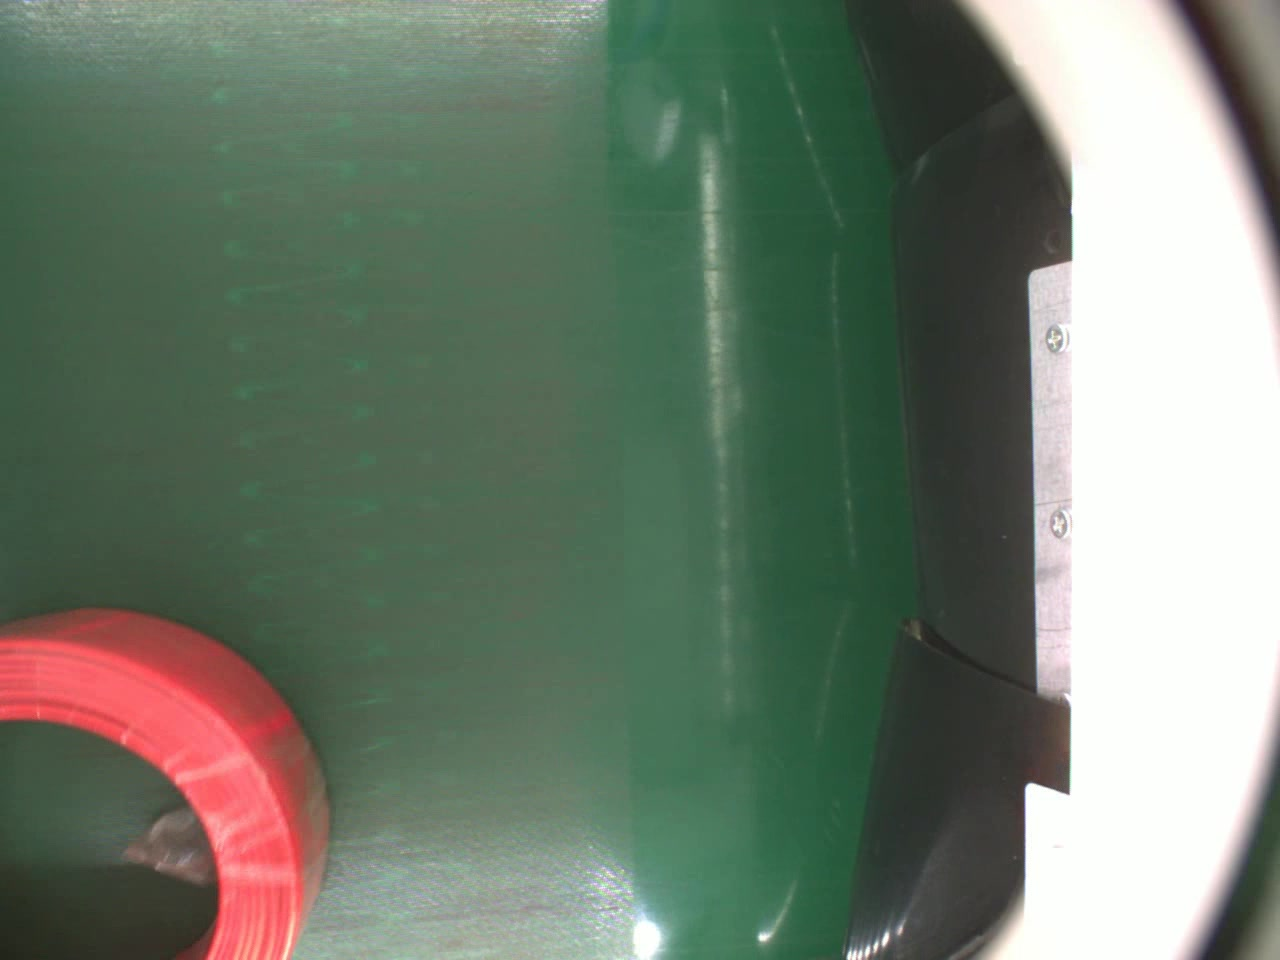red: (0, 602, 337, 960)
